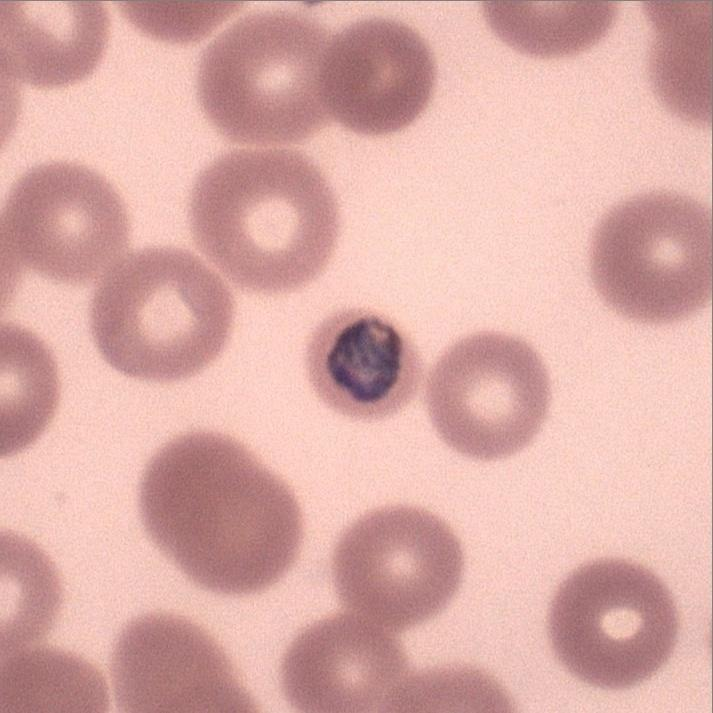Infected: (307, 311, 419, 415)
Uninfected: (142, 431, 301, 595), (192, 154, 337, 292), (203, 11, 338, 150), (97, 249, 232, 383), (587, 196, 713, 329), (548, 559, 677, 688), (425, 332, 553, 461), (333, 504, 460, 625), (318, 16, 434, 137), (8, 164, 129, 276)
